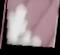dent: (1, 0, 60, 55)
